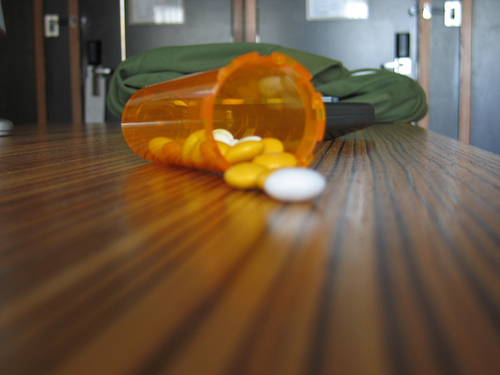pill bottle: (118, 46, 332, 201)
